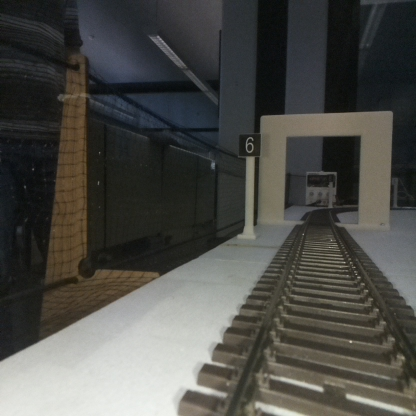black-info-6: (239, 133, 260, 236)
